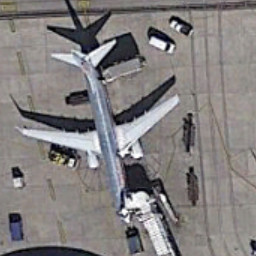Airplane: (12, 33, 190, 226)
